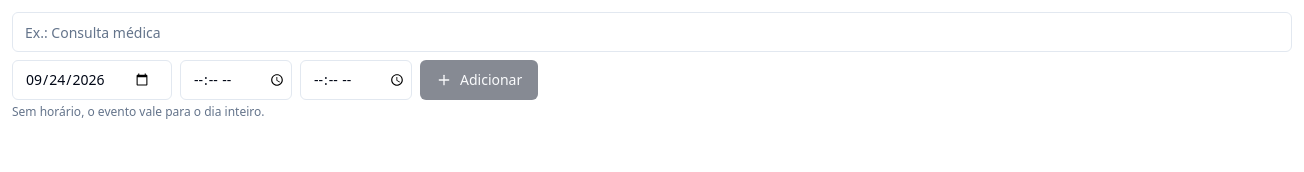
EventQuickForm › blocks an end time without a start or before the start
Type "Reunião" into the field named "Título do evento" at (652, 32), box top-left (12, 12), bottom-right (1292, 52)
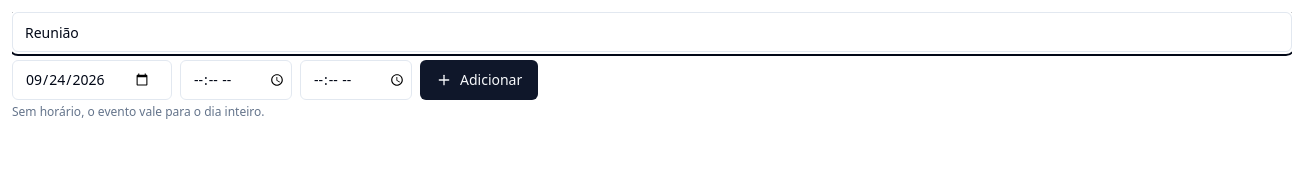
Type "10:00" into the time field named "Fim" at (356, 80), box top-left (300, 60), bottom-right (412, 100)
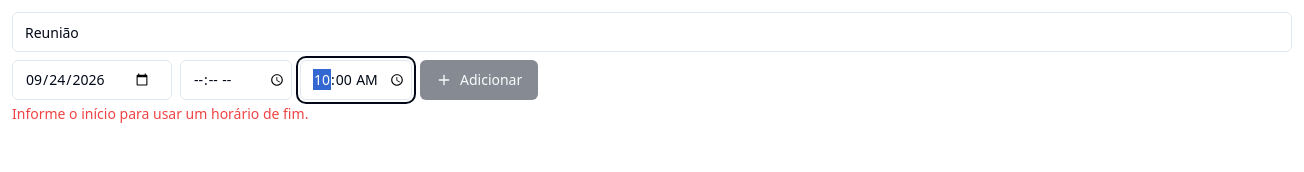
Now the text "Informe o início para usar um horário de fim." is shown, box top-left (12, 104), bottom-right (308, 123)
Now the button "Adicionar" is disabled, box top-left (420, 60), bottom-right (538, 100)
Type "11:00" into the time field named "Início" at (236, 80), box top-left (180, 60), bottom-right (292, 100)
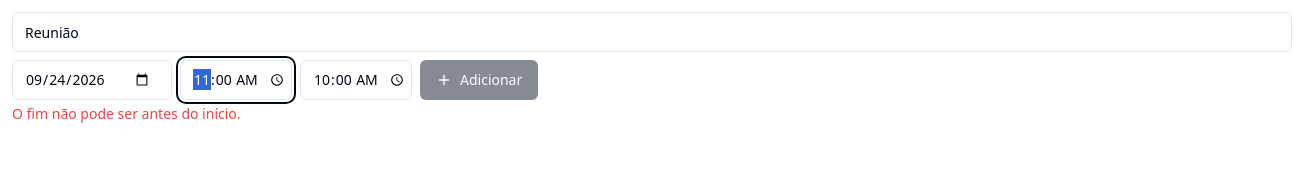
Now the button "Adicionar" is disabled, box top-left (420, 60), bottom-right (538, 100)
Now the text "O fim não pode ser antes do início." is shown, box top-left (12, 104), bottom-right (241, 123)
